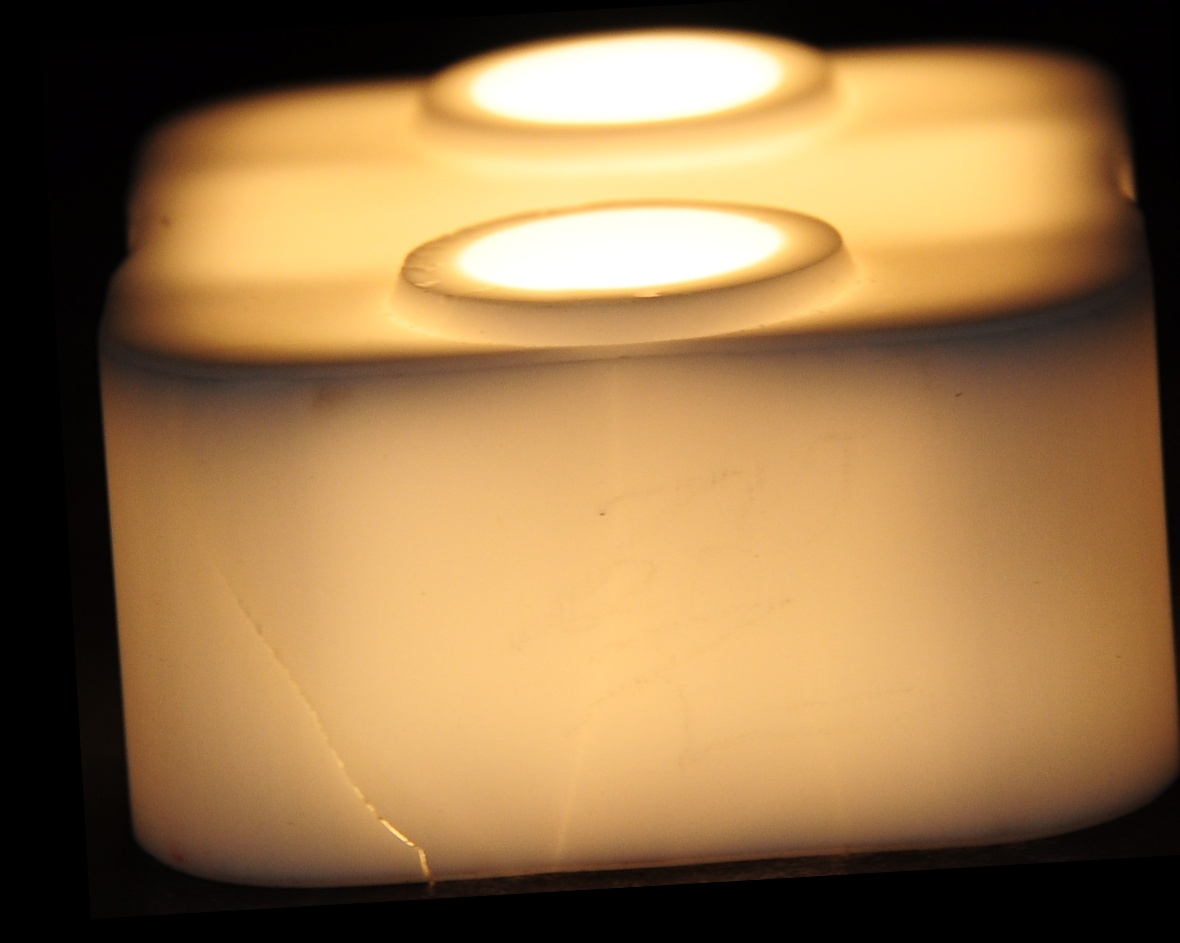flaw: (205, 525, 309, 741), (320, 707, 439, 887)
